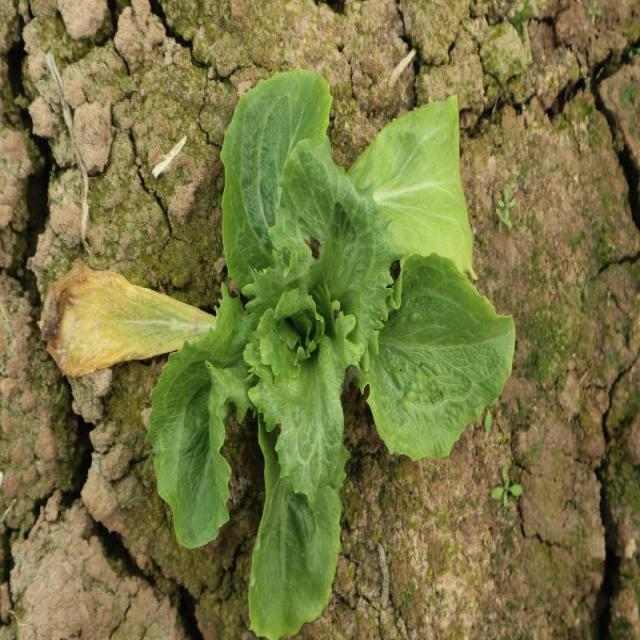crop: (146, 71, 519, 640)
